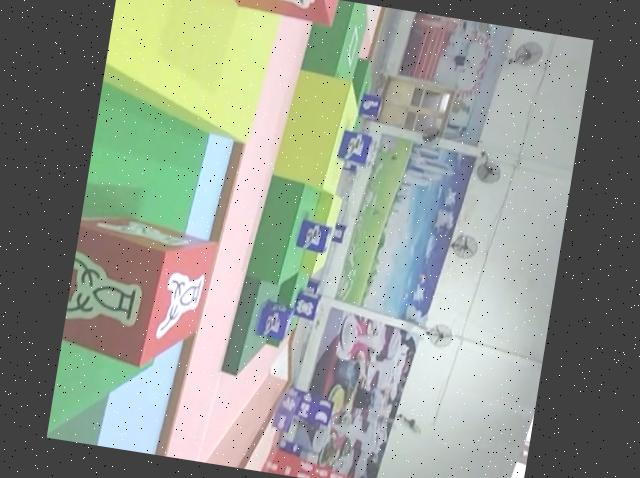R2 Fake: (180, 0, 350, 28)
R2 Real: (60, 212, 220, 377)
